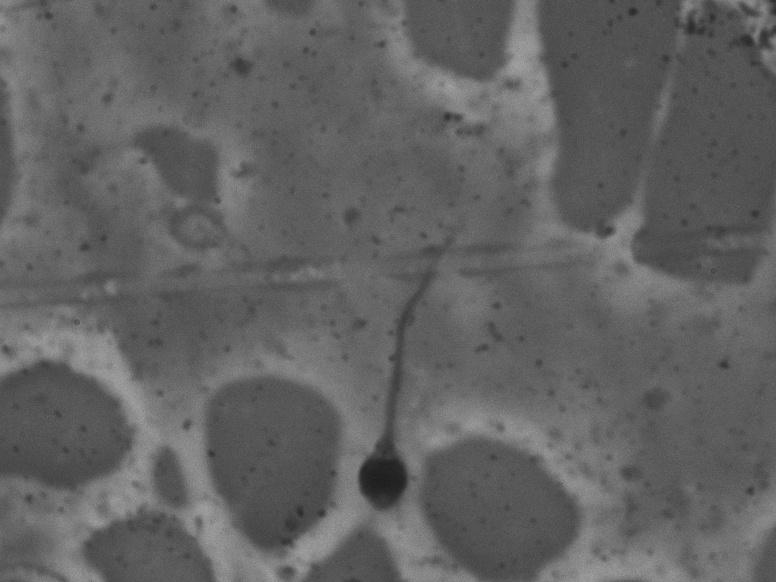Abnormal: (343, 206, 486, 524)
